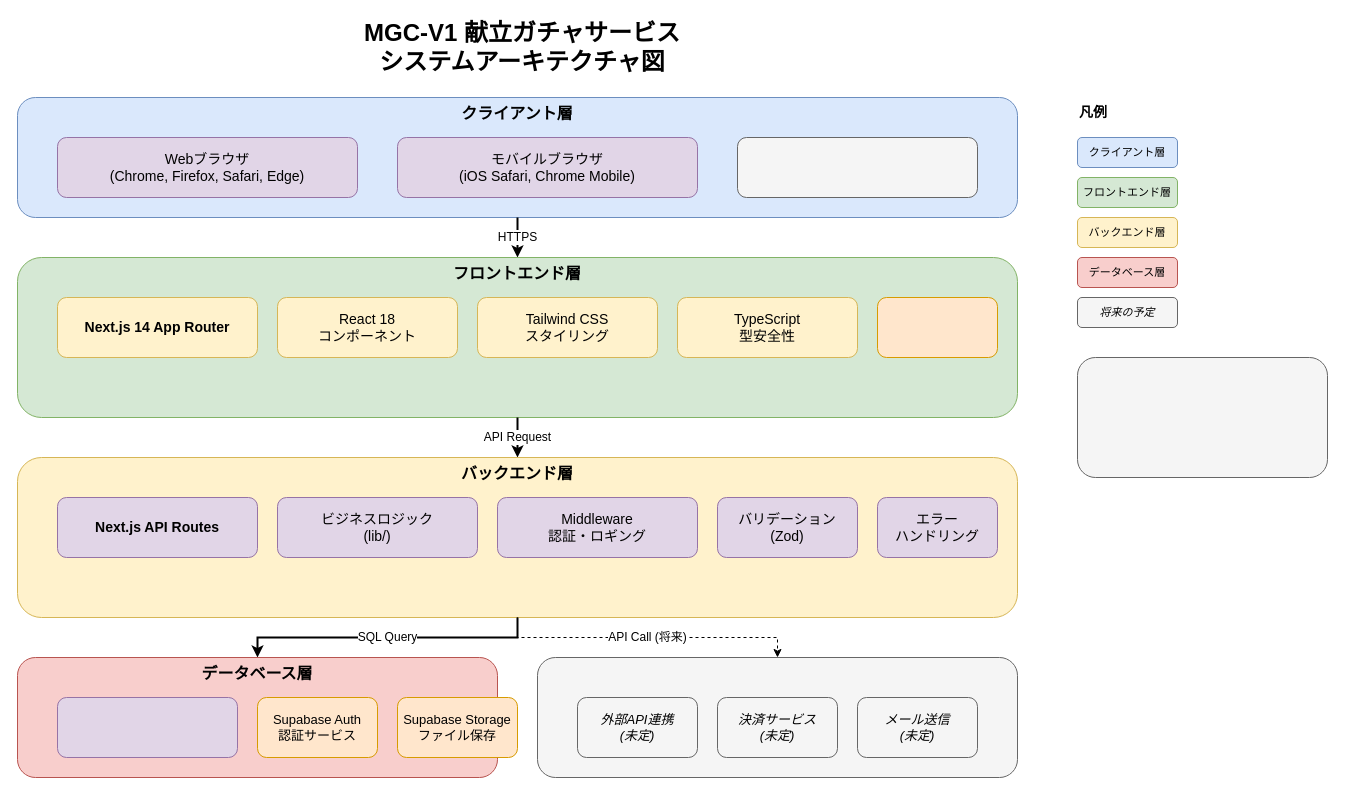
The diagram is 1345 pixels wide and 795 high, and some of its shapes have lost their labels. Here are the shapes that lost their labels. From the top down, the box of each, then its label:
(736, 136, 978, 198): 将来: ネイティブアプリ (予定)
(876, 296, 998, 358): SSG / SSR / ISR レンダリング戦略
(1076, 356, 1328, 478): 備考 ・Supabaseをメインデータベースとして使用 ・認証もSupabase Authを利用予定 ・外部サービス連携は今後の要件に応じて追加
(56, 696, 238, 758): Supabase (PostgreSQL)
(536, 656, 1018, 778): 外部サービス層 (予定)
